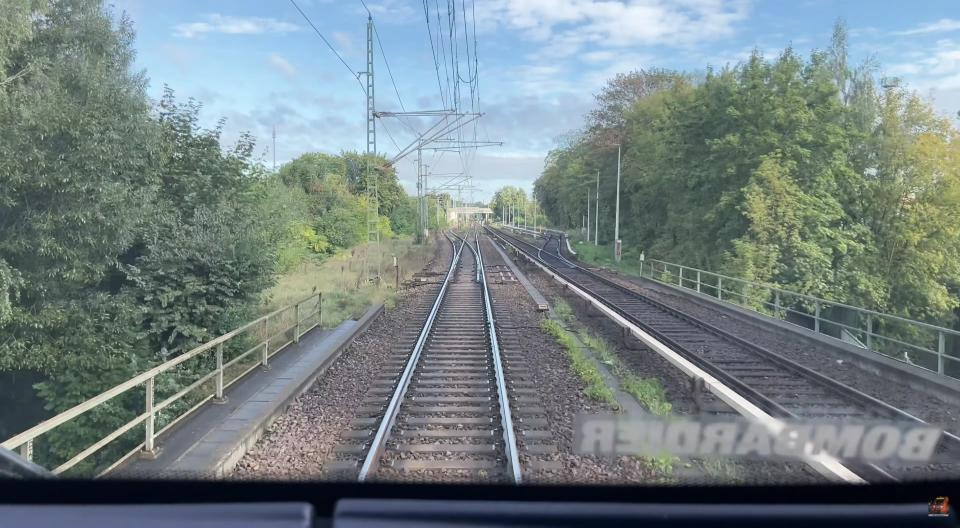Plant: (580, 329, 671, 416), (542, 321, 618, 409), (365, 284, 402, 310), (555, 297, 574, 320)
